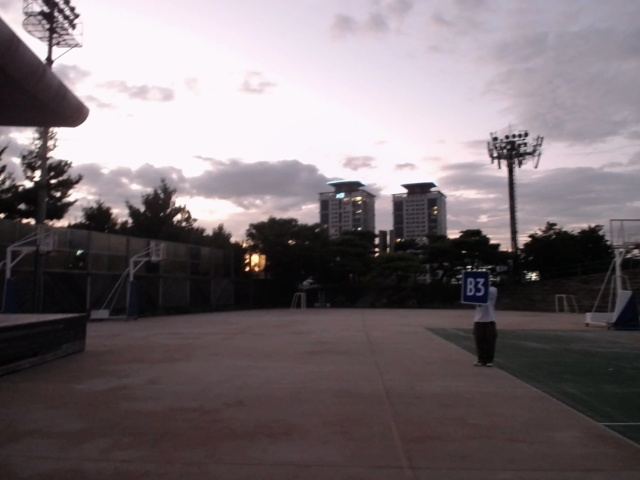delivery_b3: (461, 269, 490, 306)
